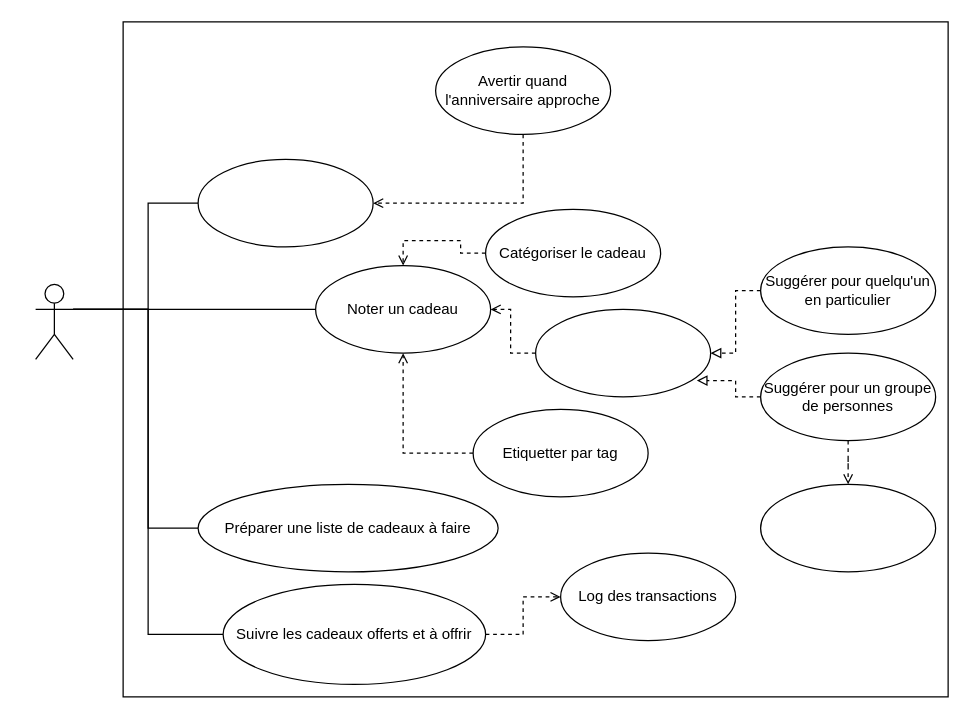
This 970x719 diagram has some shape labels left out. The centre of each missing label's shape, as x and y in pixels:
"Enregistrer des personnes" goes at pixel 285 202.
"Enregistrer un groupe" goes at pixel 847 527.
"Suggérer pour des personnes" goes at pixel 622 352.
"Utilisateur" goes at pixel 53 321.
